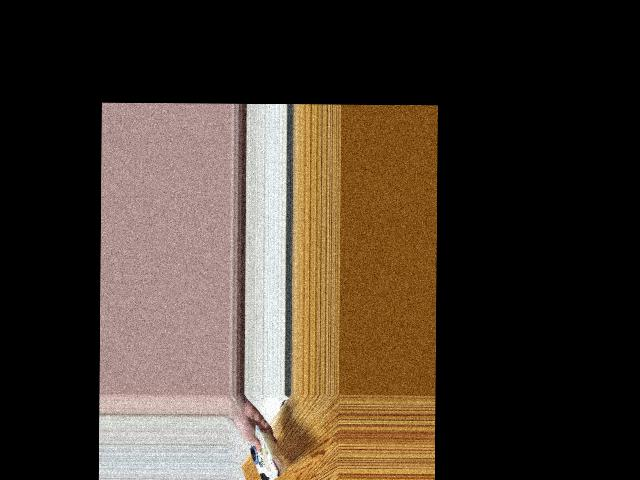cheese: (240, 433, 285, 480)
